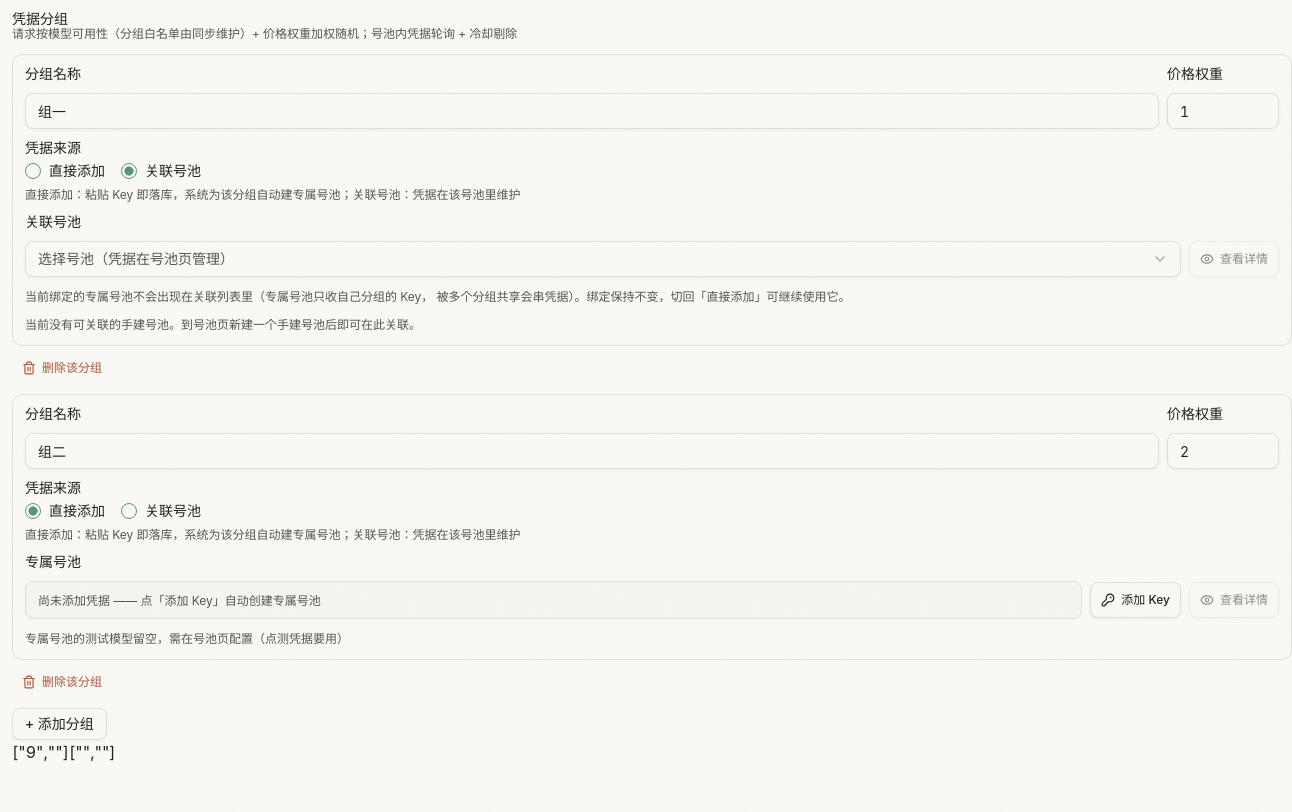
Test case: 凭据分组区 - 取 Key 模式（直接添加 / 关联号池） › 池还没进列表（刚建好等刷新）：切到「直接添加」不解绑（解绑=丢掉刚建的专属池）
The width and height of the screenshot is (1292, 812).
Click the 1st radio button named "直接添加".
click(33, 171)  # box top-left (25, 163), bottom-right (41, 179)
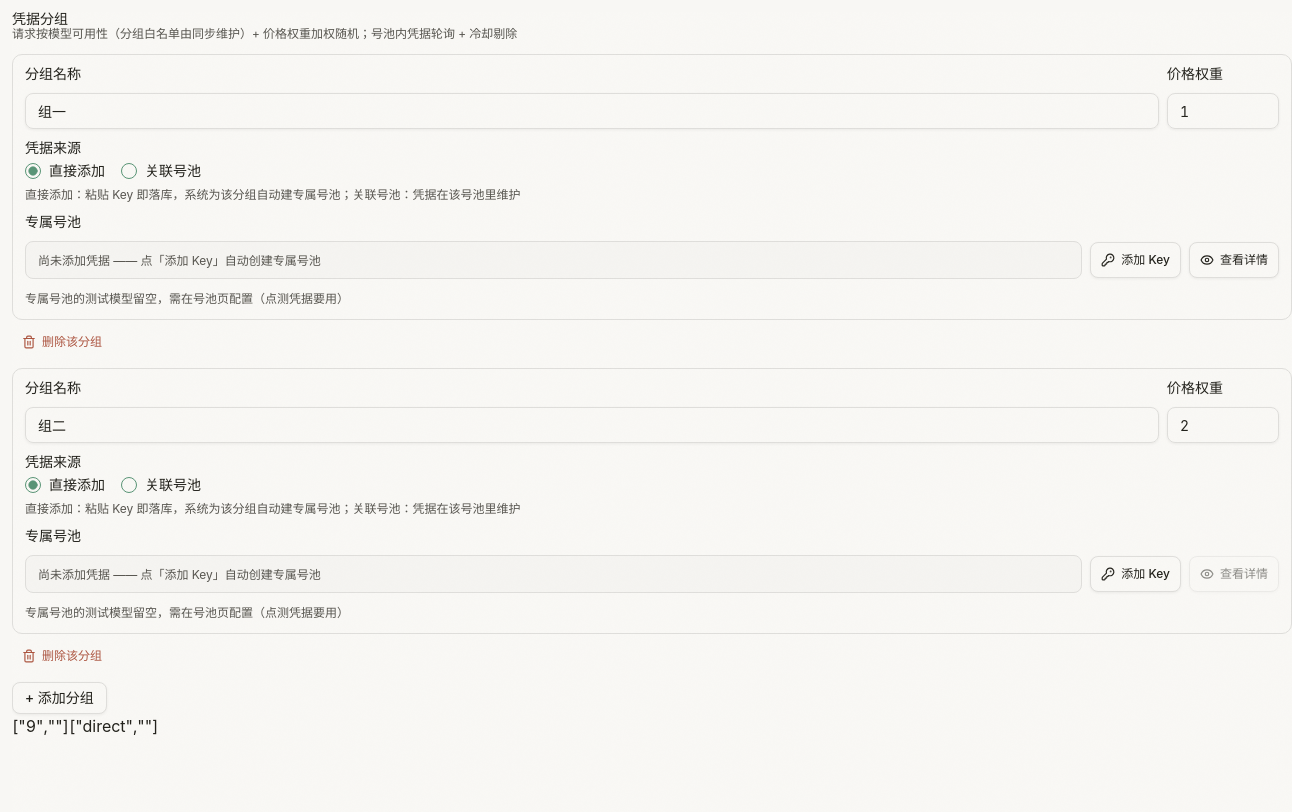
Expected: the text with test id "probe-pool-ids" reads "[\"9\",\"\"]", top-left (12, 716), bottom-right (69, 736)
Now the text with test id "probe-modes" reads "[\"direct\",\"\"]", box top-left (69, 716), bottom-right (158, 736)
